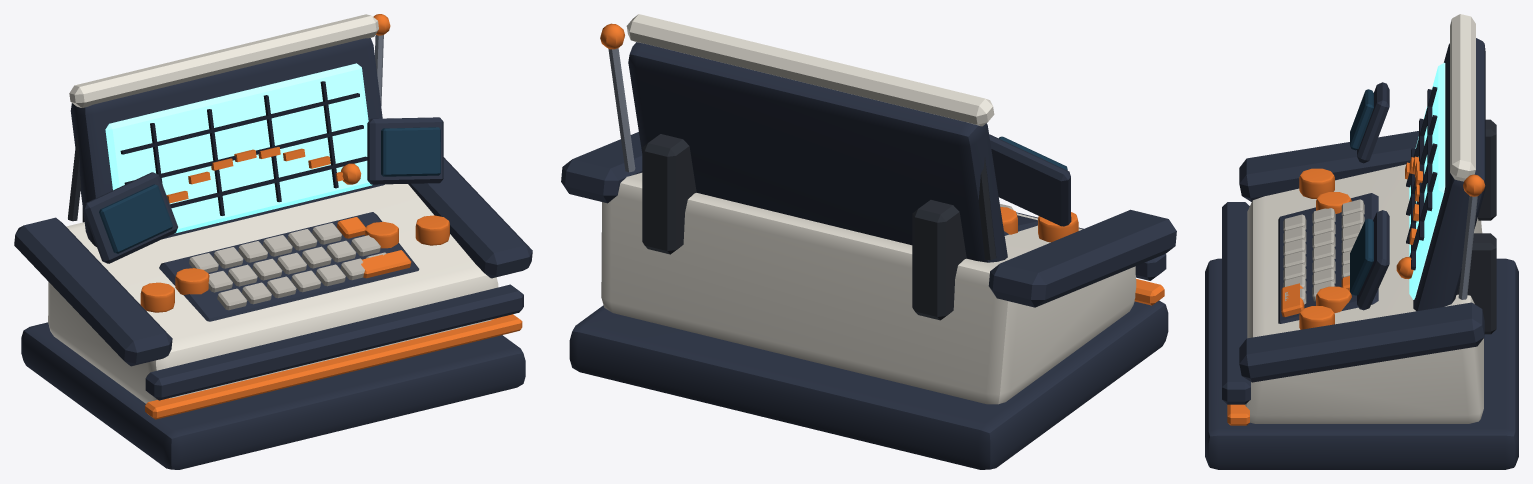
File: trajectory_console.fbx
3 renders of one model, left to right at view 1: azimuth 30°, elevation 25°; view 2: azimuth 150°, elevation 25°; view 3: azimuth 270°, elevation 25°, orthographic. The views are drawn at different scales.
Parts seen in each view (by area): view 1: Body, Screen, Keyboard; view 2: Body; view 3: Body, Keyboard, Screen.
Boxes of the visible parts, x1,y1,x2,y2 form: Body: (14,14,532,469); Screen: (105,63,372,233); Keyboard: (159,212,419,321); Body: (561,14,1176,469); Body: (1205,14,1518,469); Keyboard: (1278,193,1378,323); Screen: (1409,62,1445,299).
Size of the model in its own units: 4.3 by 2.93 by 2.8.
Materials: 2 (1 with a texture image).
